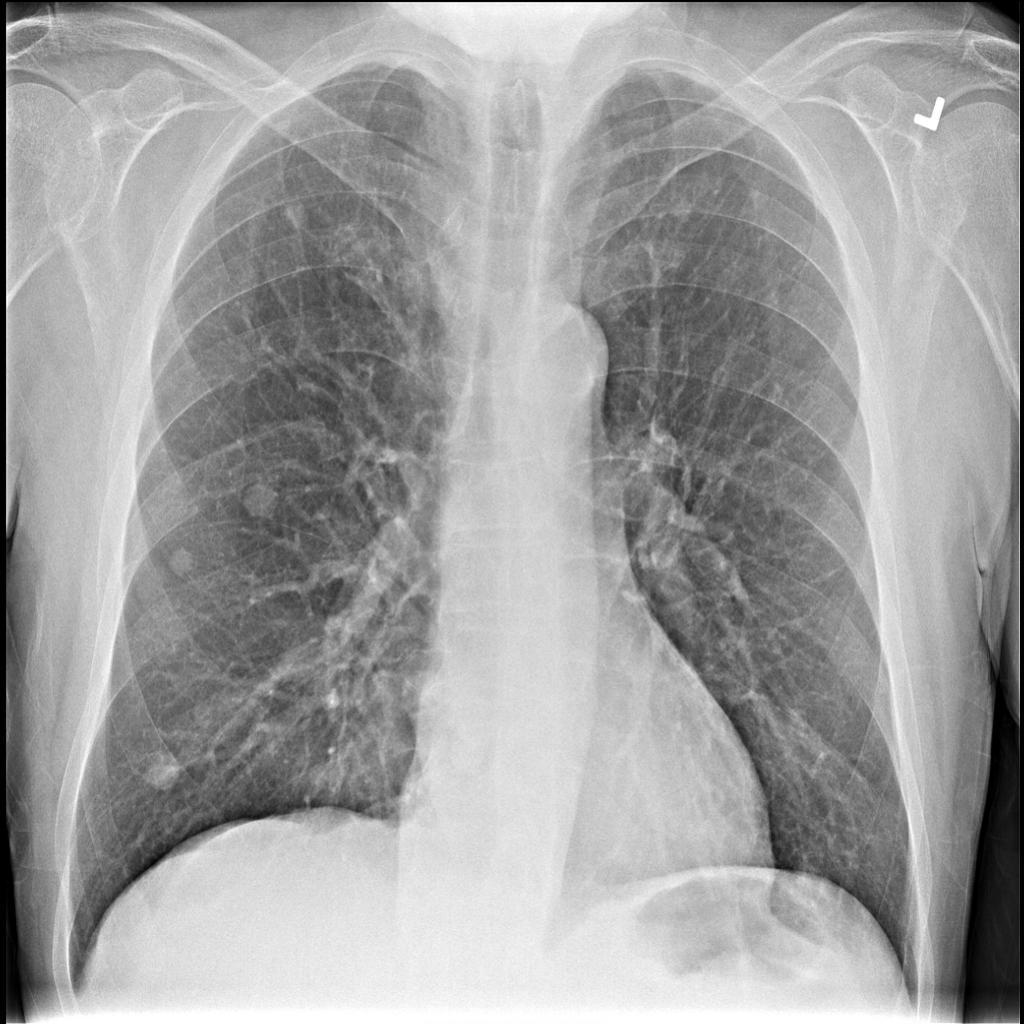Nodule: (133, 745, 195, 799), (233, 479, 282, 526), (161, 543, 197, 579)
